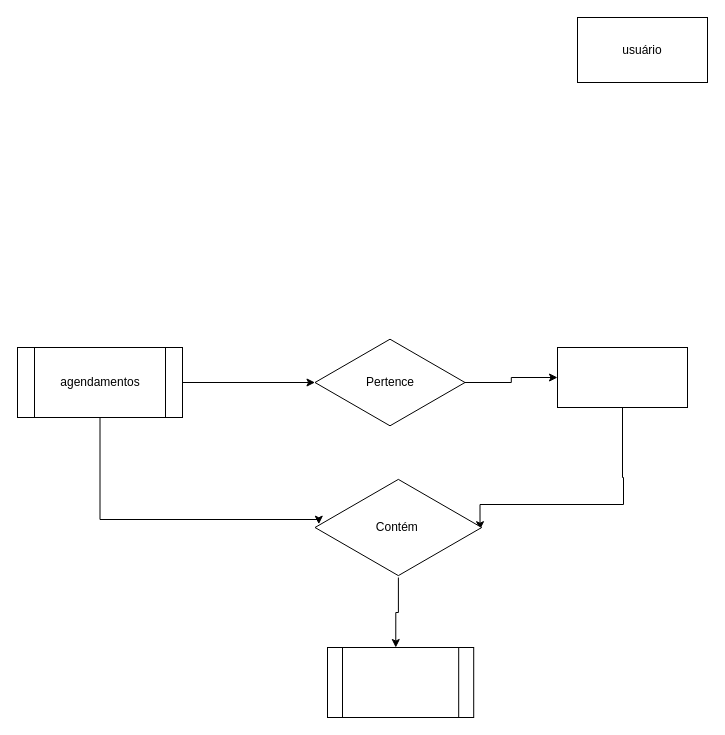
This 725x735 diagram has some shape labels left out. Each missing label, with the centre of its shape:
"execução" goes at (x=400, y=682).
"Robo" goes at (x=622, y=377).
